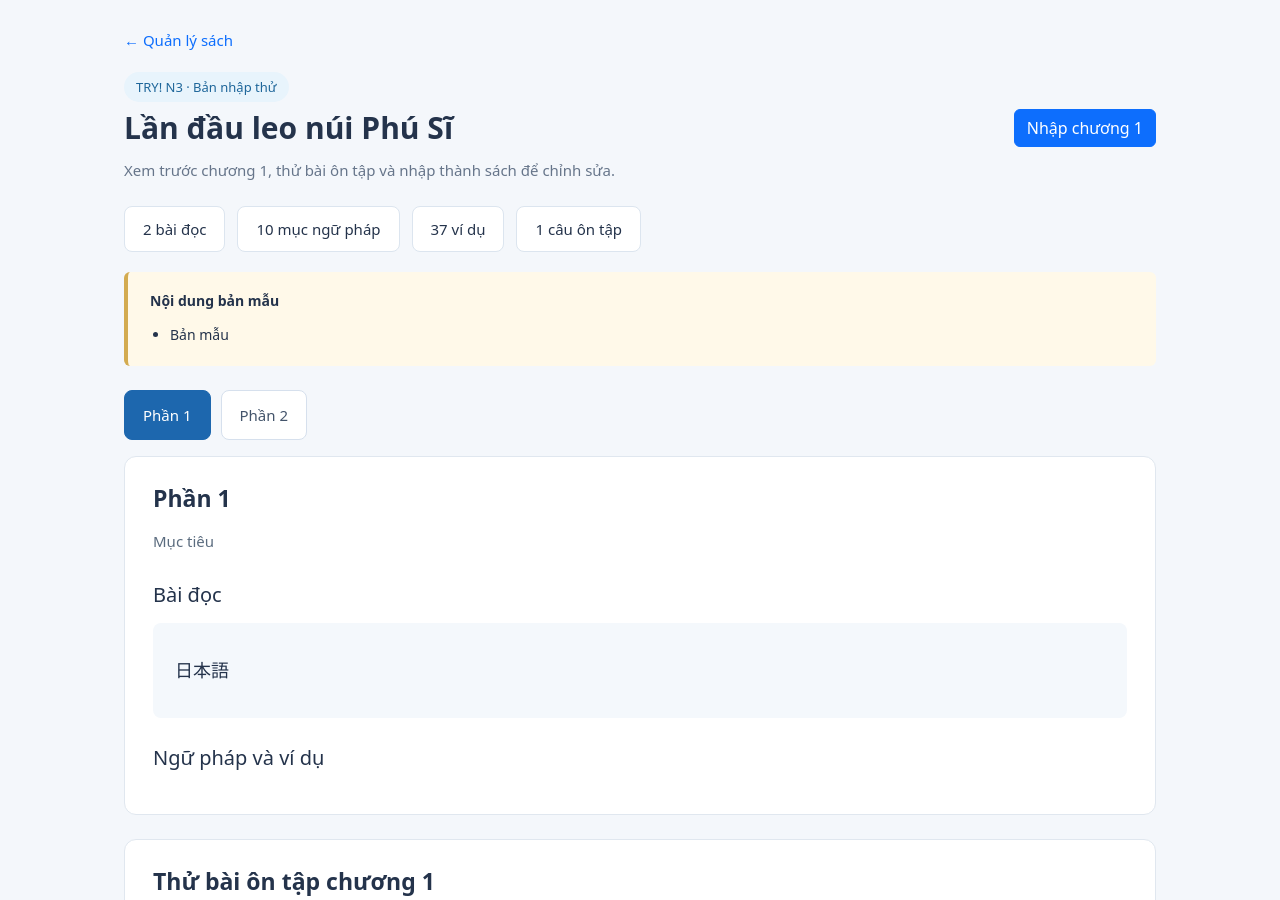
Scenario: previews without writing and imports once with a link to the created book
What coordinates should you click on to do the following:
click the button "Nhập chương 1"
I would click on:
 (1085, 128)
Its box is [1014,109,1156,147].
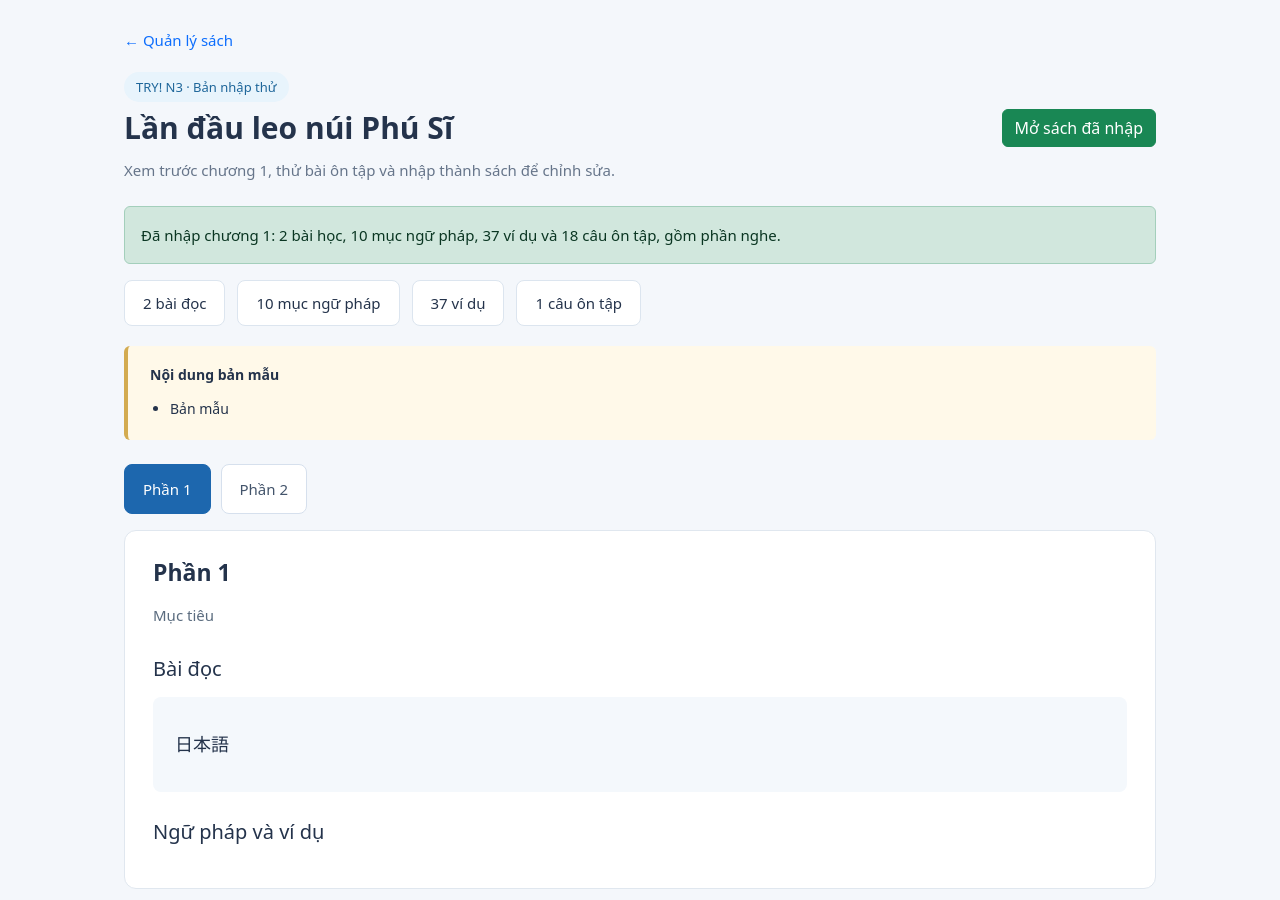
Expected: the text "Đã nhập chương 1" is shown, [141,225,781,245]
